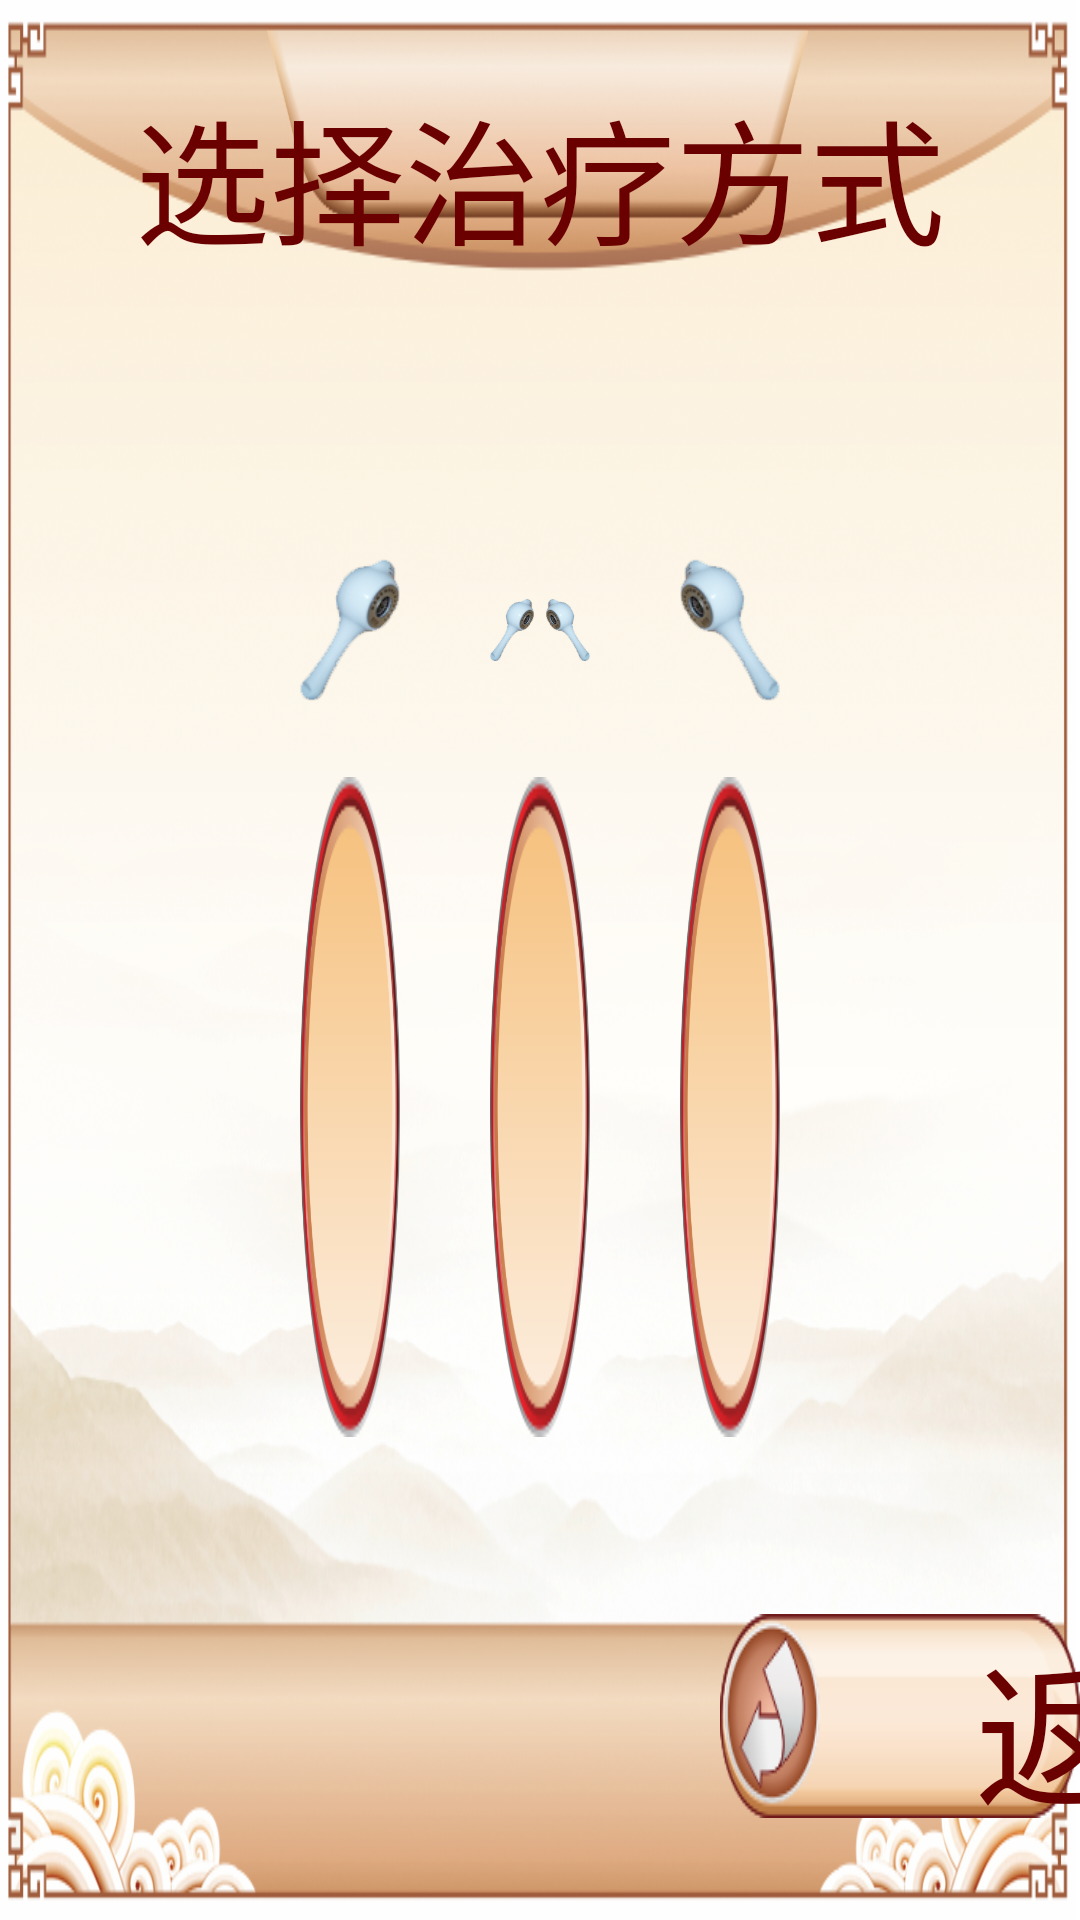

Icon click points for this 1080px x 1920px phone screenshot, format point (x, y):
comb double: point (540, 630)
comb left: point (350, 630)
comb right: point (730, 630)
